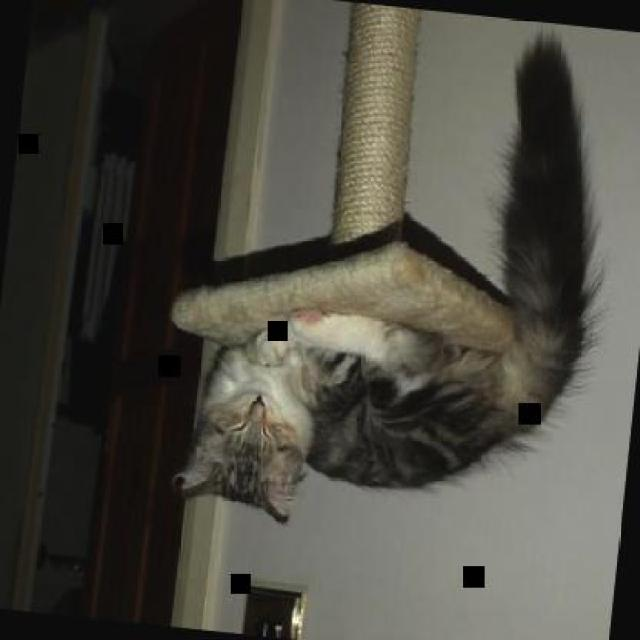cat: (174, 3, 615, 552)
